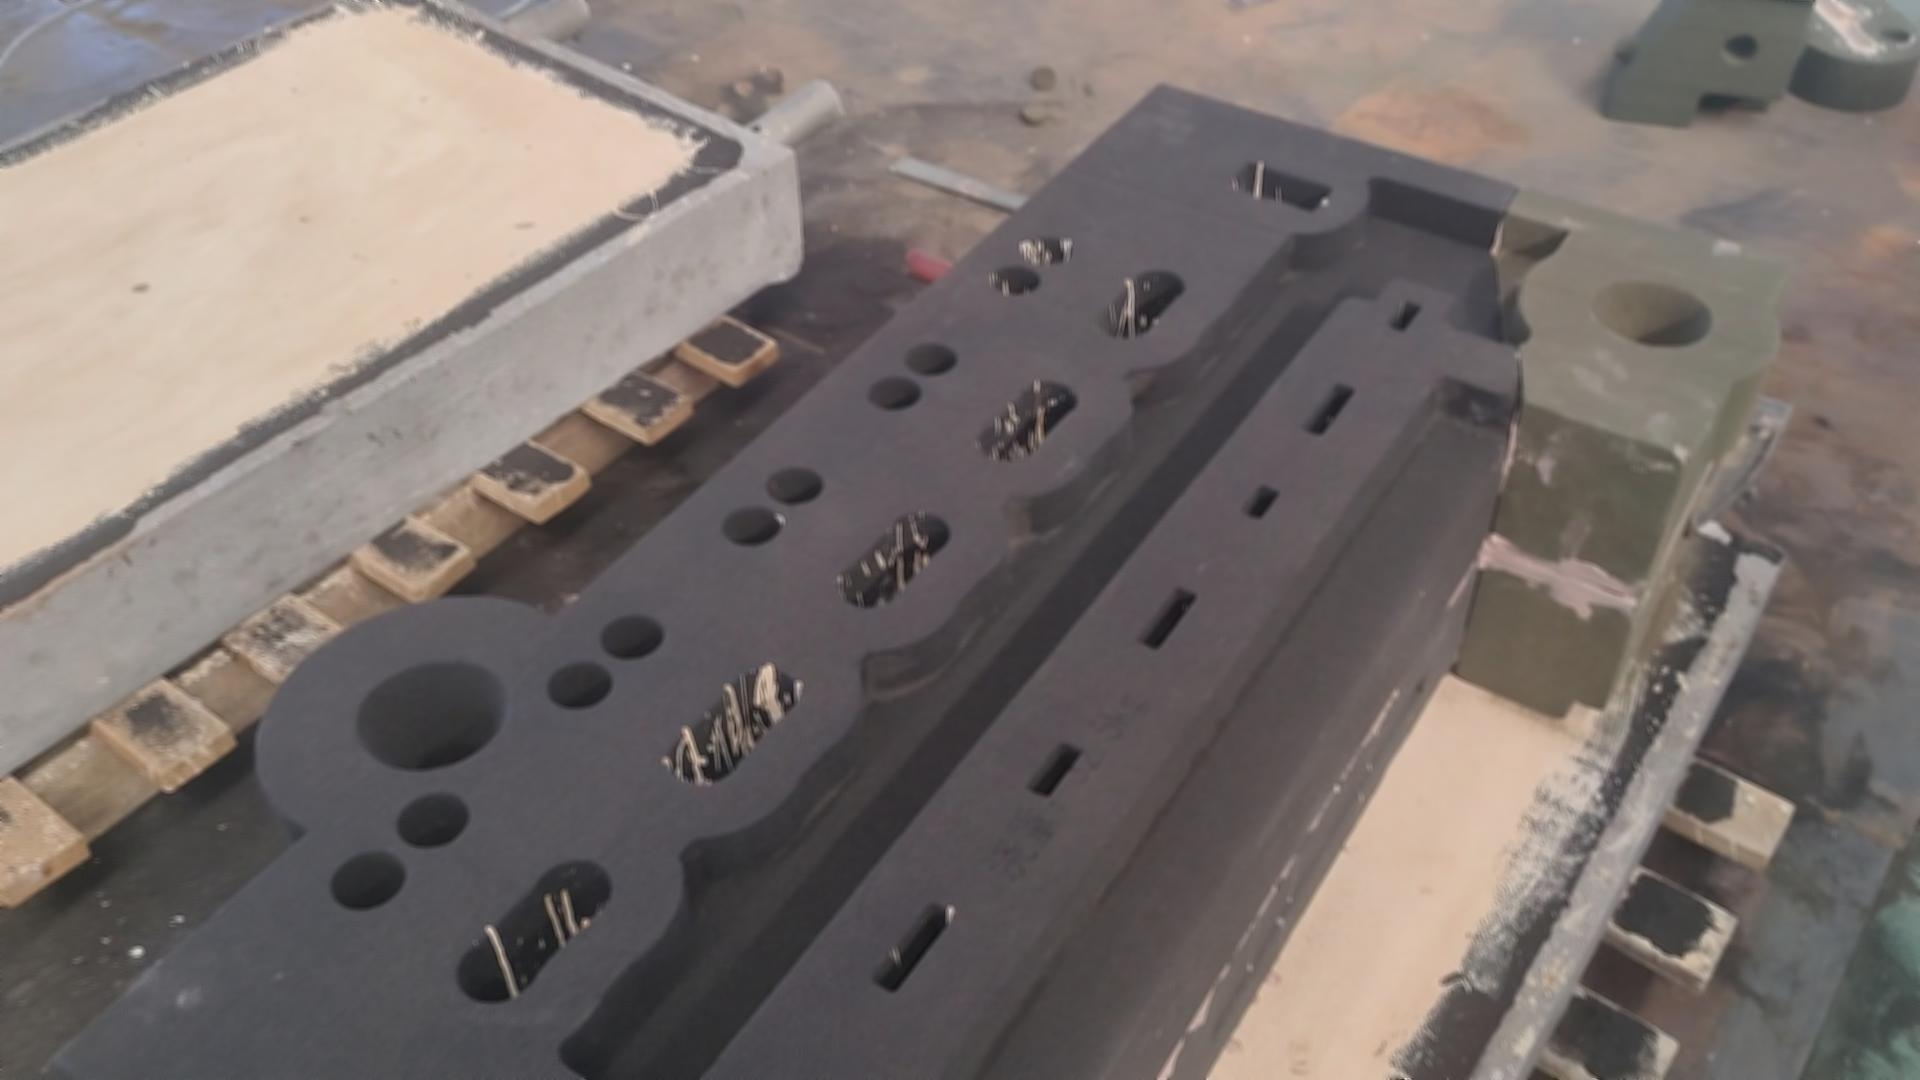pouring hole: (355, 659, 508, 771), (1593, 276, 1714, 351)
